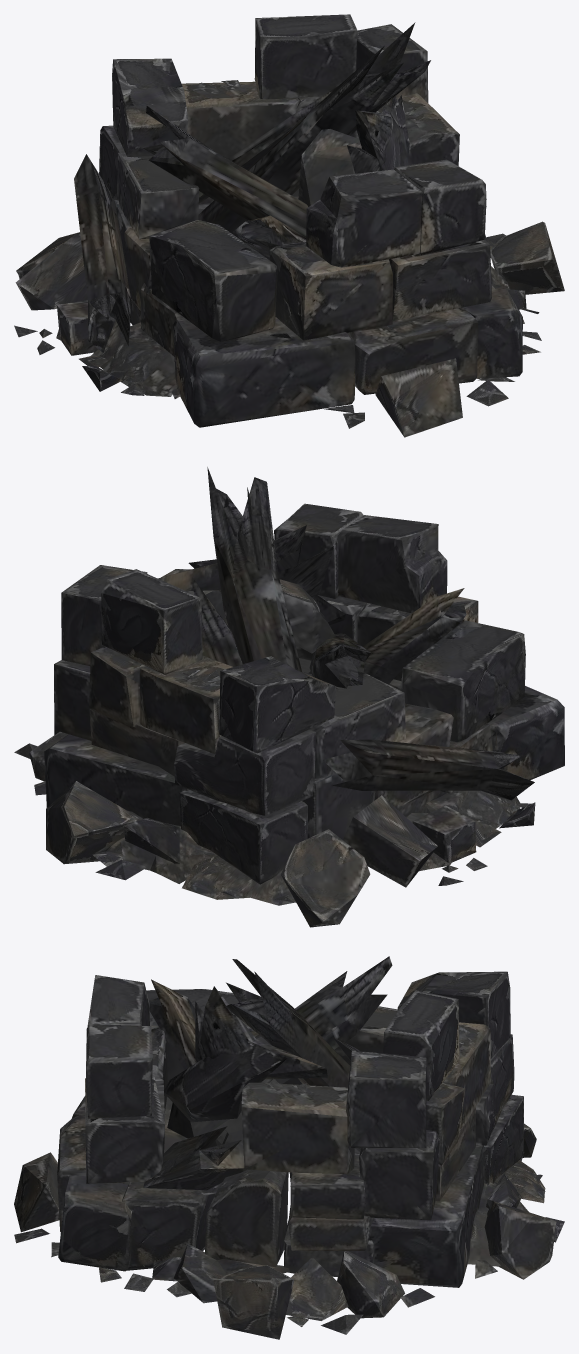
File: rubble.glb
3 renders of one model, top to bottom at view 1: azimuth 30°, elevation 25°; view 2: azimuth 150°, elevation 25°; view 3: azimuth 270°, elevation 25°, orthographic.
Parts seen in each view (by area): view 1: Mesh; view 2: Mesh; view 3: Mesh.
Boxes of the visible parts, x1=… form: Mesh: x1=14, y1=14, x2=564, y2=437; Mesh: x1=14, y1=467, x2=564, y2=927; Mesh: x1=14, y1=956, x2=564, y2=1339.
Bounding box in the file's own units: 1 × 0.6101 × 1.
1 material, 1 textured.
